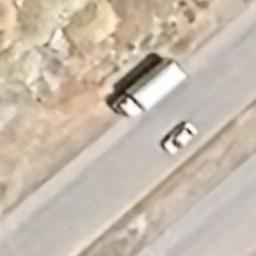sedan: (159, 118, 199, 156)
truck: (109, 58, 188, 120)
